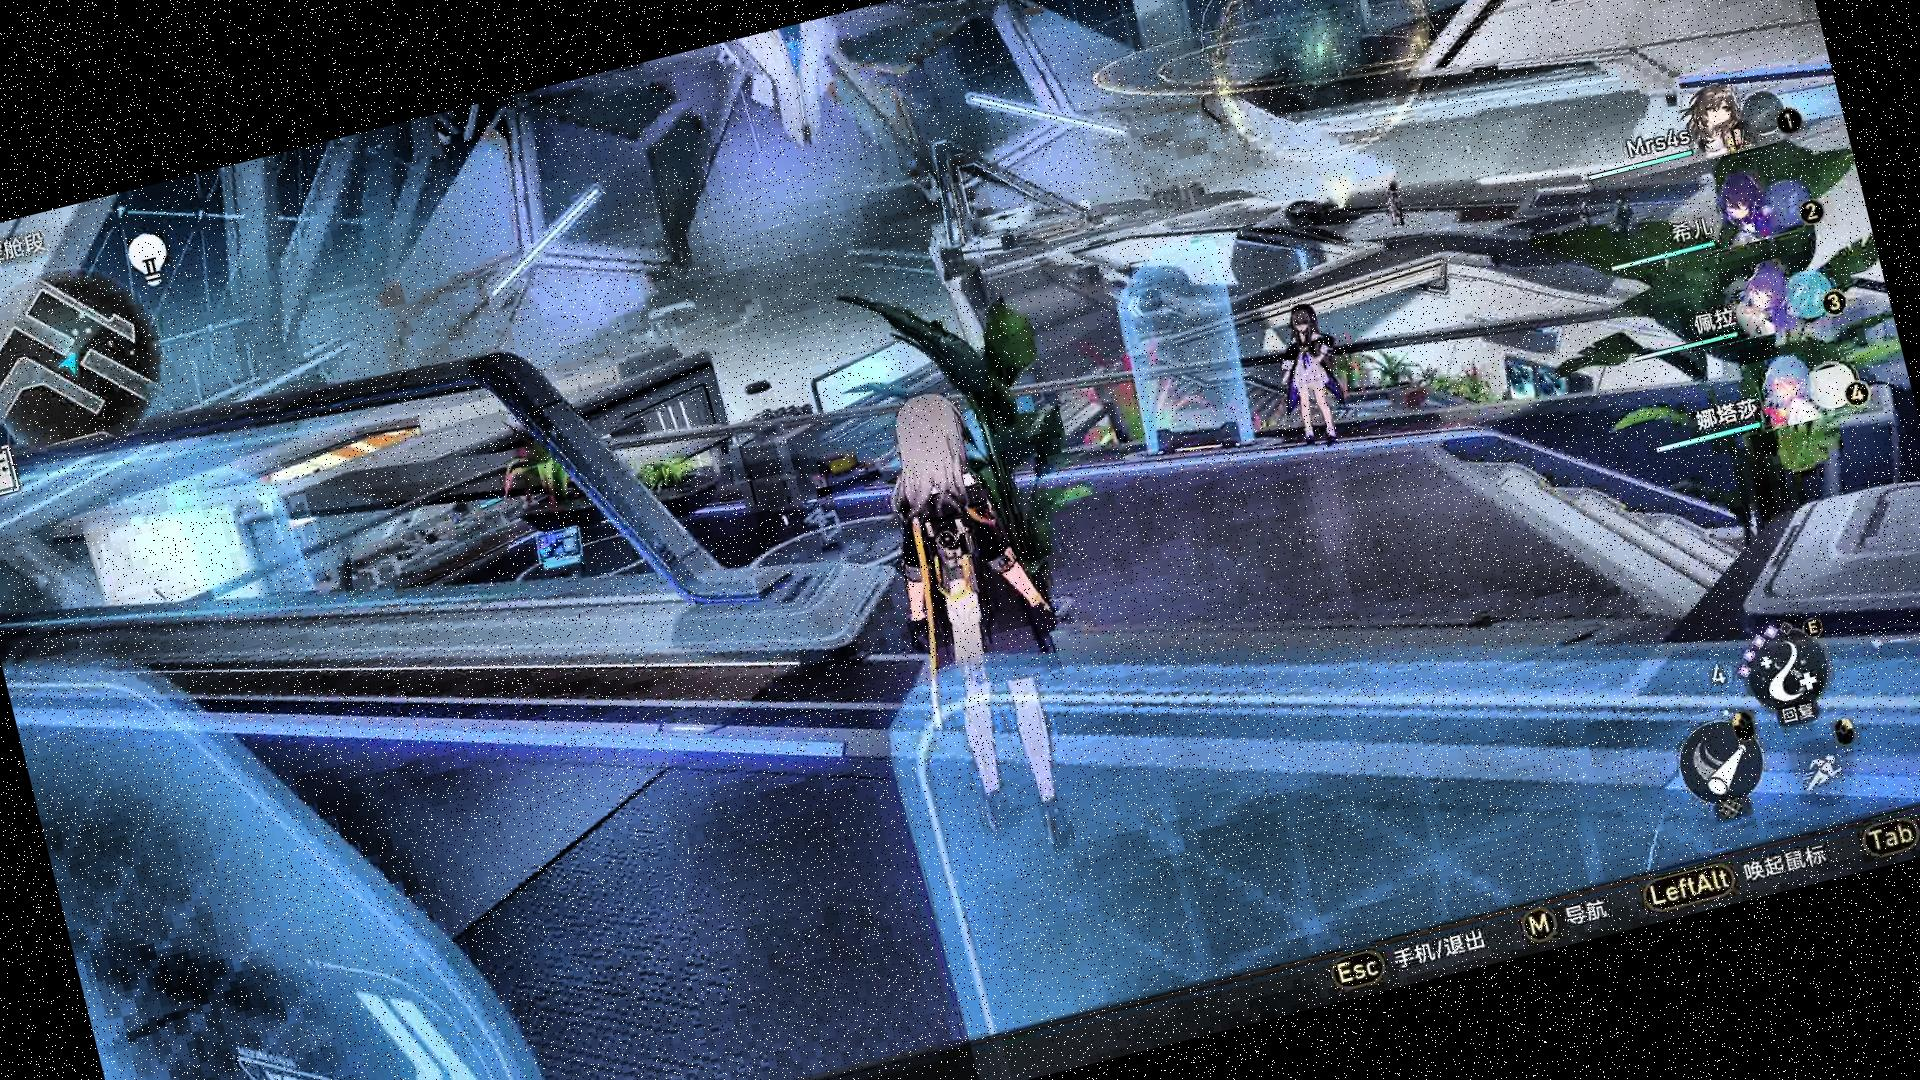Self: (852, 376, 1120, 877)
TeamMate: (1262, 290, 1365, 463), (1378, 174, 1414, 231)
